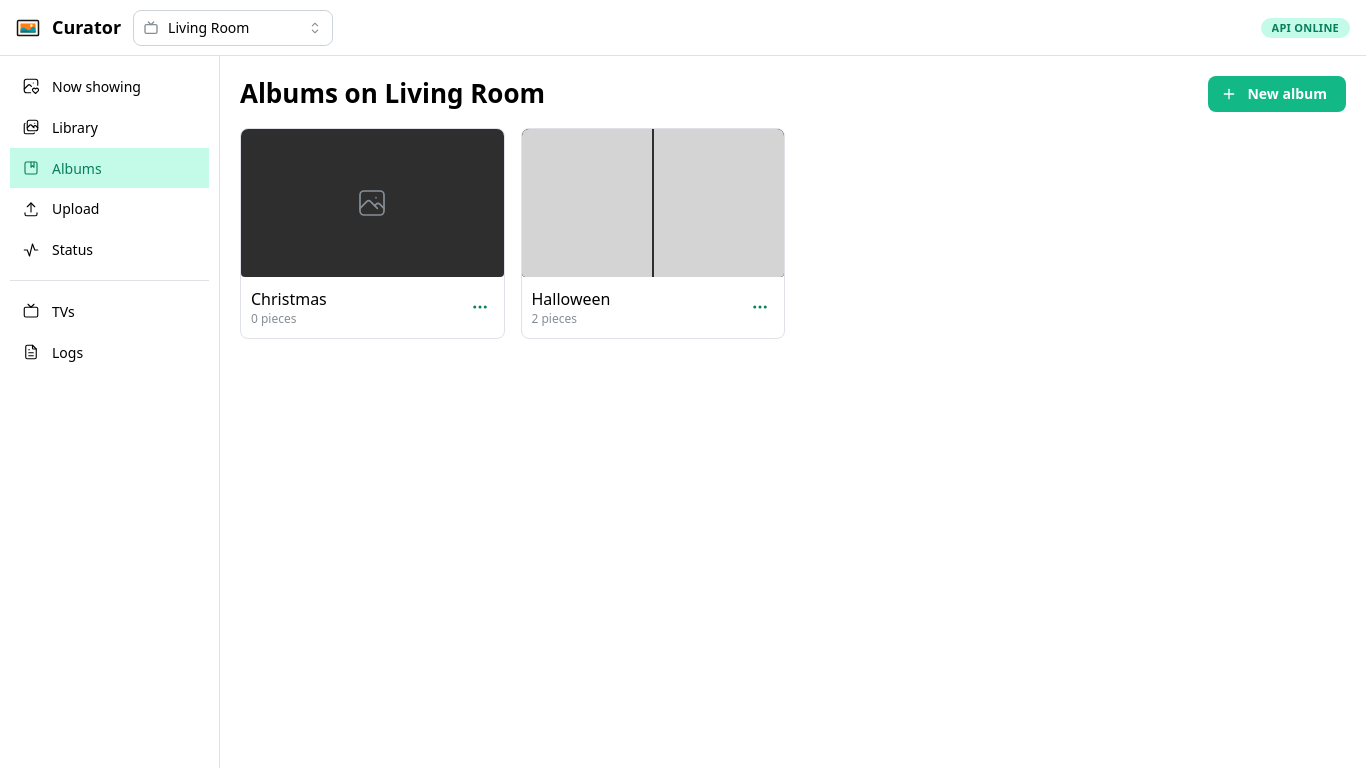
Scenario: albums › creates an album
The width and height of the screenshot is (1366, 768).
Click the button "New album" at (1277, 94), box [1208,76,1346,112]
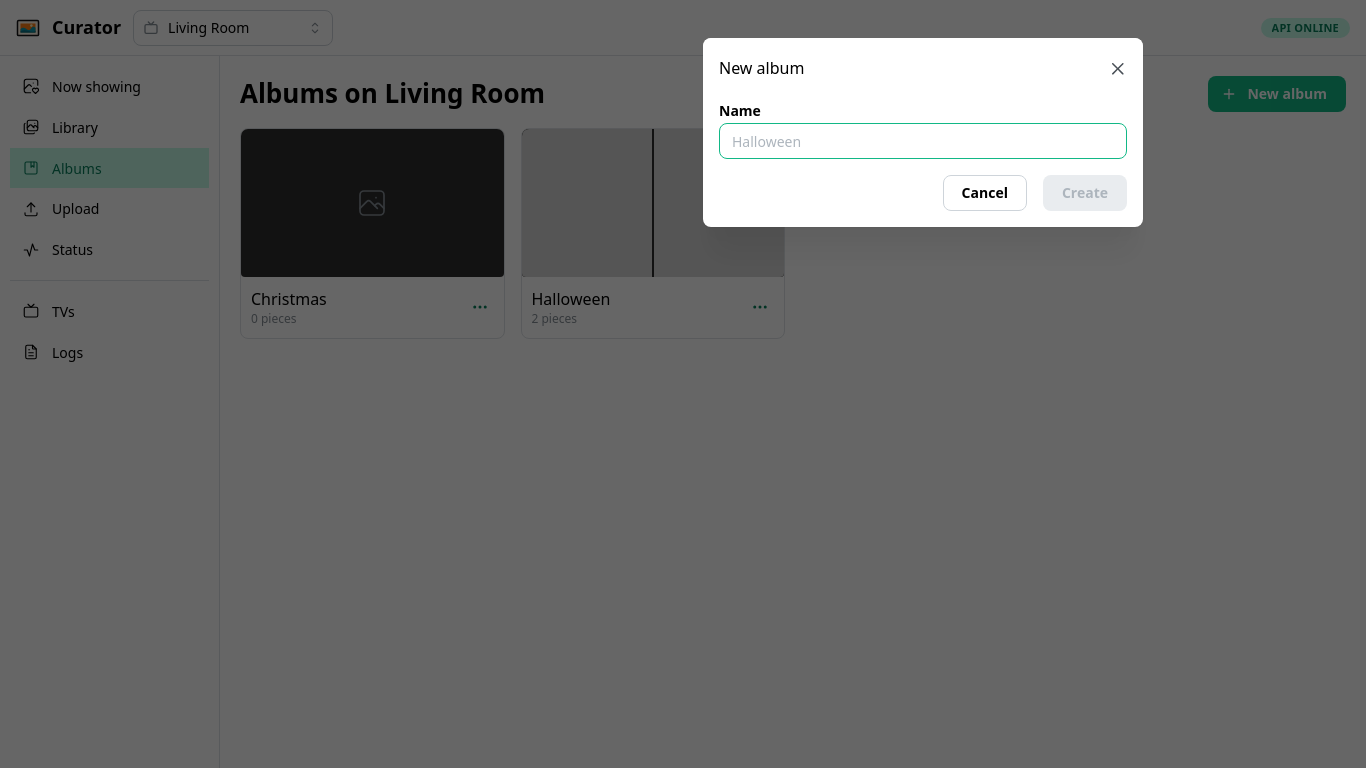
Type "Easter" into the field labelled "Name" at (923, 141), box [719,123,1127,159]
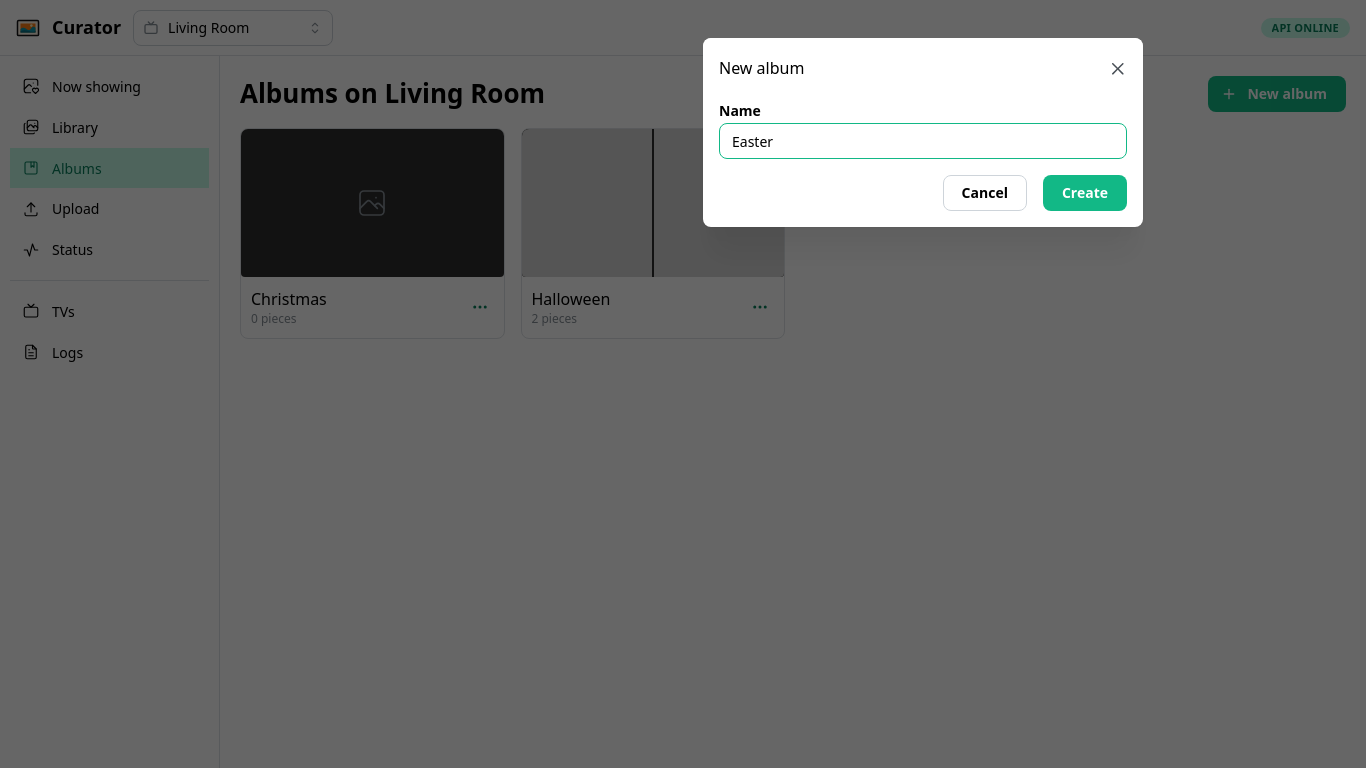
Click the button "Create" at (1085, 193), box [1043,175,1127,211]
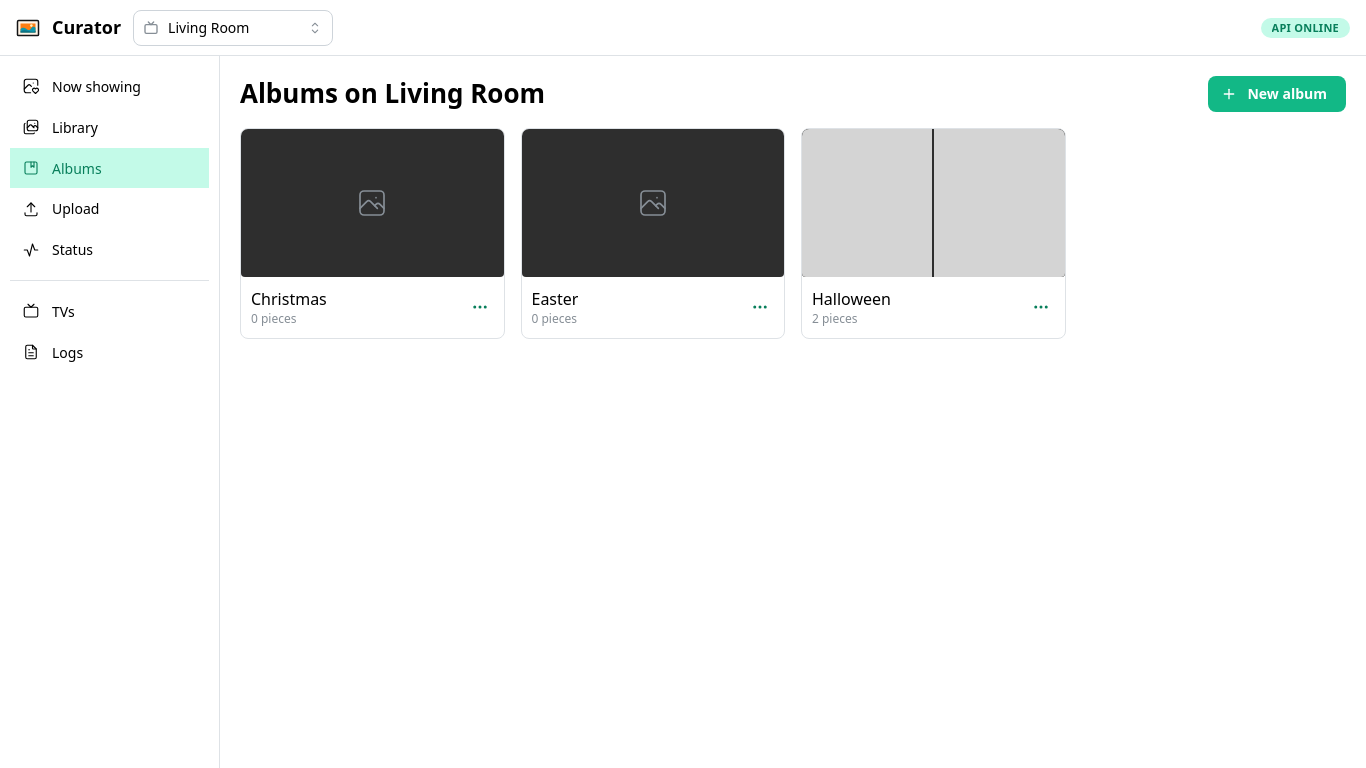
Now the link "Easter" is shown, box [532,287,578,312]
